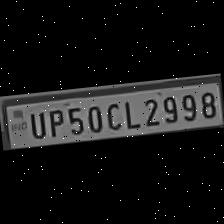0: (83, 100, 104, 134)
2: (138, 94, 160, 128)
5: (64, 102, 86, 136)
8: (195, 88, 218, 120)
9: (157, 92, 179, 125), (178, 90, 198, 122)
C: (102, 98, 123, 132)
L: (120, 96, 140, 130)
P: (44, 104, 66, 138)
U: (25, 108, 48, 140)
